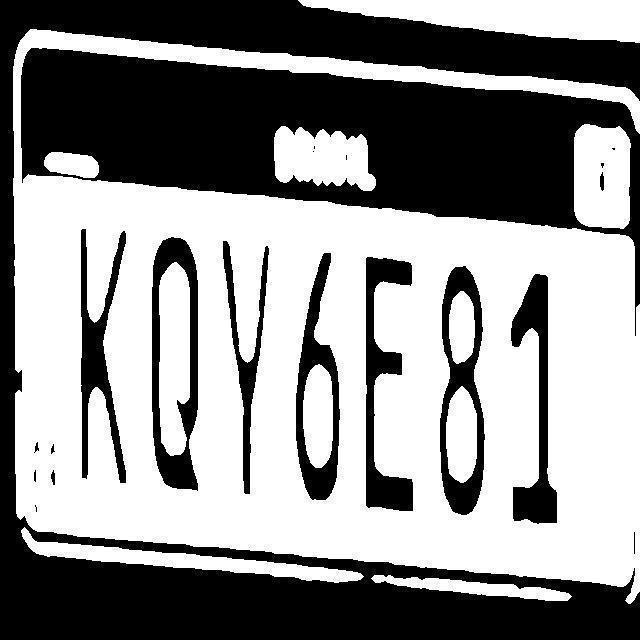1: (508, 264, 578, 548)
6: (297, 236, 363, 521)
8: (438, 246, 504, 526)
e: (354, 235, 436, 521)
k: (77, 230, 153, 519)
q: (150, 230, 209, 495)
y: (228, 230, 288, 519)
